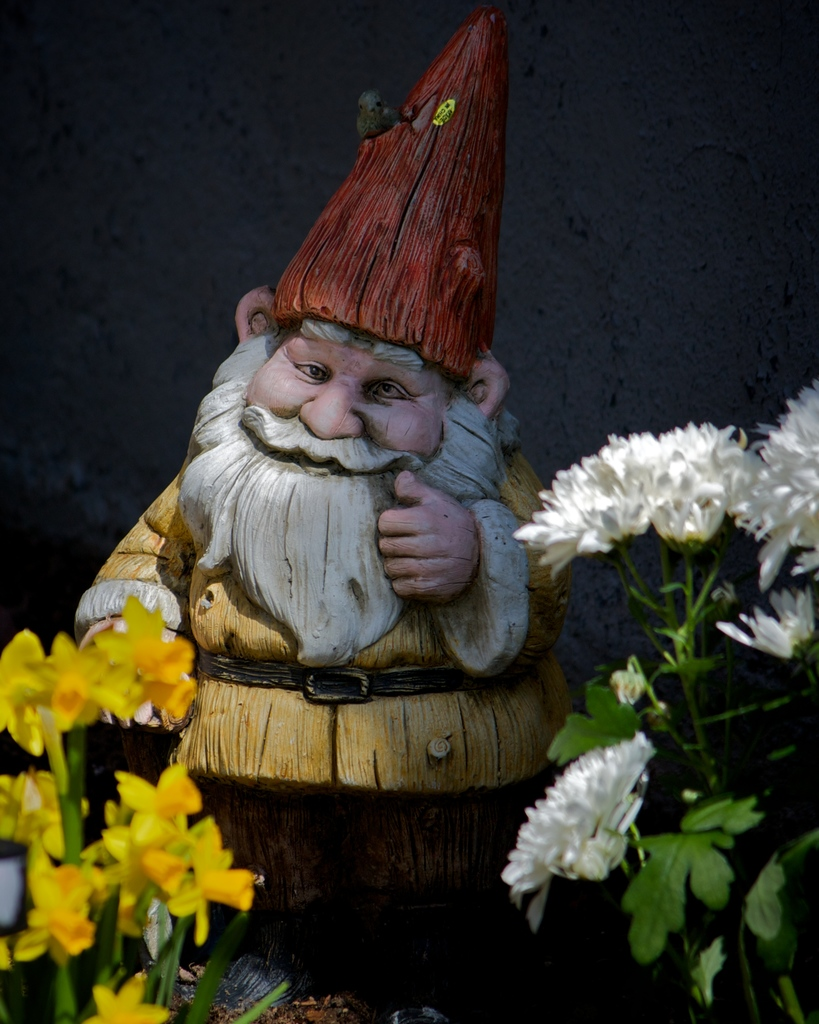Person: (73, 4, 573, 910)
